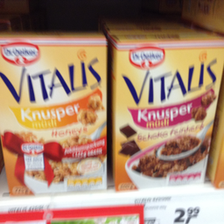cereal: (107, 30, 224, 193), (1, 31, 109, 199)
